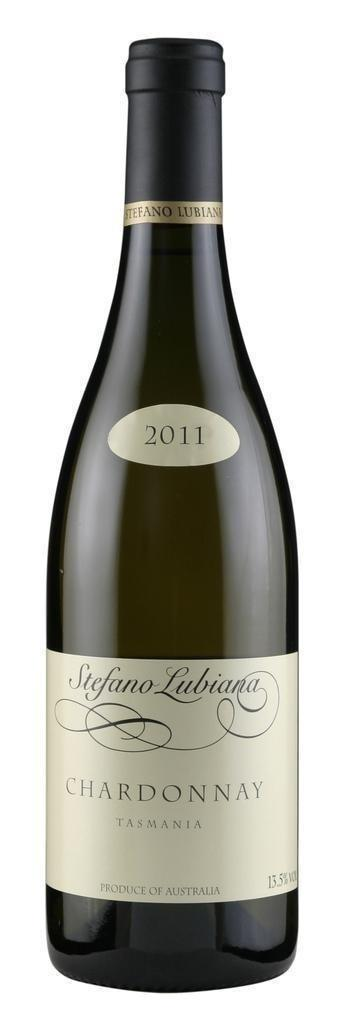bottle-glass: (43, 36, 304, 997)
